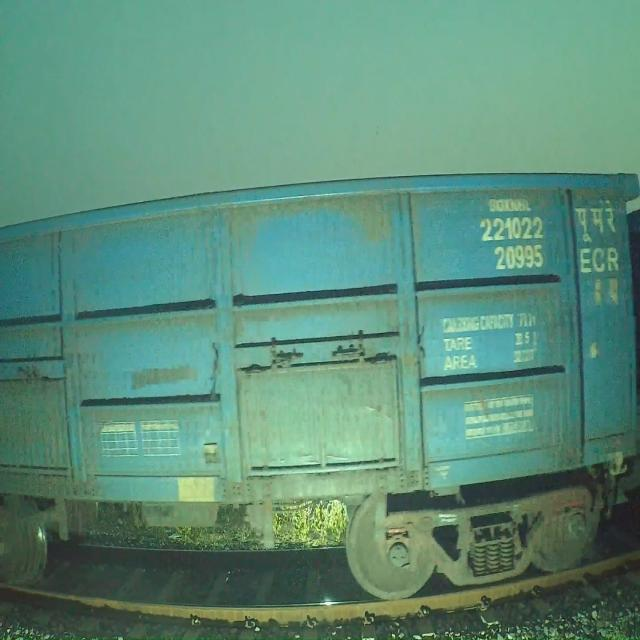WAgon-uic: (0, 166, 640, 616)
uic: (472, 206, 550, 276)
